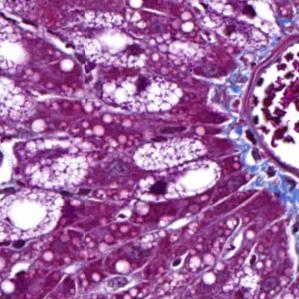ballooning: (134, 157, 230, 204), (92, 70, 185, 115), (70, 25, 152, 68), (201, 3, 270, 51), (129, 133, 211, 169)
